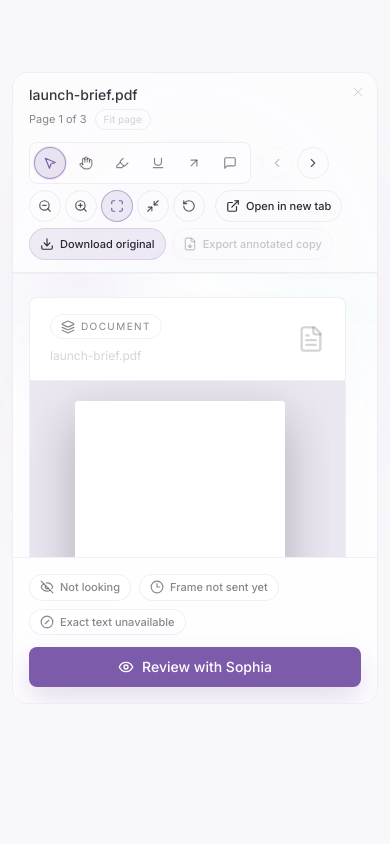
Coreview artifact still-frame review › handles a native Coreview PDF set_view tool, marks the view stale, and refreshes the current frame
Expected: the text "Page 1 of 3" is shown, [29,111,87,128]
Click the button "Review with Sophia" at (195, 667), box [29,647,361,687]
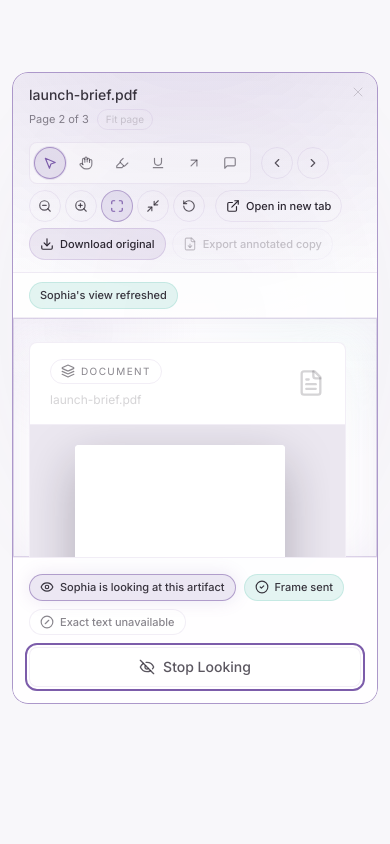
Expected: the text "Page 2 of 3" is shown, [29,111,89,128]
Expected: the message with test id "artifact-voice-command-status" reads "Sophia's view refreshed", [40,288,167,302]
